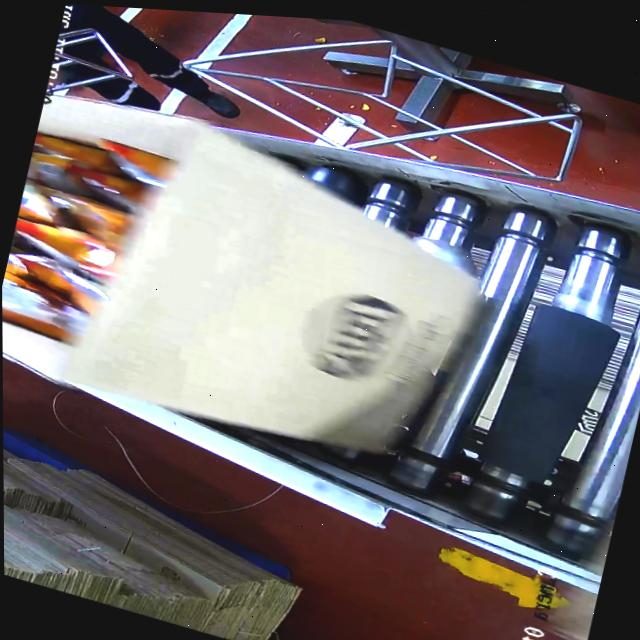FRENCH_CHEESE: (1, 120, 154, 352)
